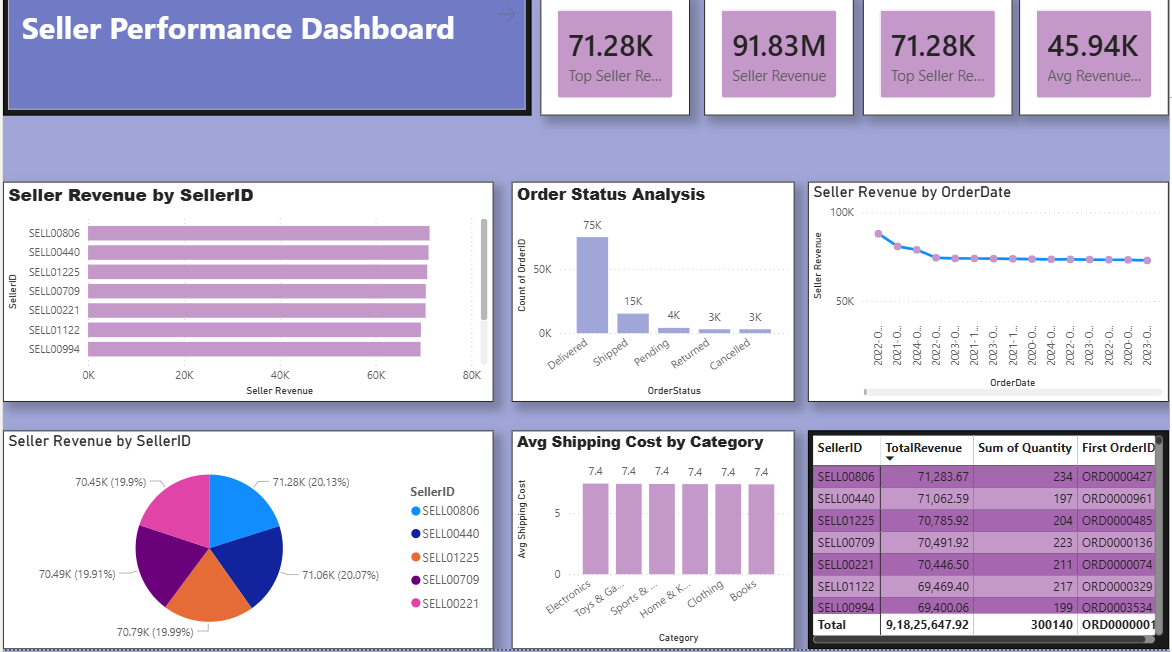

Layout of this report page (visuals, bound fields, positions):
{"tool":"powerbi","page":{"name":"Seller Performance Dashboard","canvas":[1280,720],"ordinal":3},"visuals":[{"type":"cardVisual","fields":{"Data":["amazonanalytics amazonsales.Top Seller Revenue"]},"box":[590,0,164.3,134.3],"z":0},{"type":"textSlicer","box":[0,0,580,134.3],"z":1000},{"type":"cardVisual","fields":{"Data":["amazonanalytics amazonsales.Seller Revenue"]},"box":[770,0,164.3,134.3],"z":2000},{"type":"cardVisual","fields":{"Data":["amazonanalytics amazonsales.Top Seller Revenue"]},"box":[944.3,0,164.3,134.3],"z":3000},{"type":"cardVisual","fields":{"Data":["amazonanalytics amazonsales.Avg Revenue Per Seller"]},"box":[1115.7,0,164.3,134.3],"z":4000},{"type":"clusteredBarChart","fields":{"Category":["amazonanalytics amazonsales.SellerID"],"Y":["amazonanalytics amazonsales.Seller Revenue"]},"box":[0,207.1,538.6,241.4],"z":5000},{"type":"pieChart","fields":{"Category":["amazonanalytics amazonsales.SellerID"],"Y":["amazonanalytics amazonsales.Seller Revenue"]},"box":[0,480,538.6,240],"z":6000},{"type":"columnChart","title":"Order Status Analysis","fields":{"Category":["amazonanalytics amazonsales.OrderStatus"],"Y":["CountNonNull(amazonanalytics amazonsales.OrderID)"]},"box":[558.6,207.1,310,241.4],"z":7000},{"type":"clusteredColumnChart","fields":{"Category":["amazonanalytics amazonsales.Category"],"Y":["amazonanalytics amazonsales.Avg Shipping Cost"]},"box":[558.6,480,310,240],"z":8000},{"type":"lineChart","fields":{"Category":["amazonanalytics amazonsales.OrderDate"],"Y":["amazonanalytics amazonsales.Seller Revenue"]},"box":[884.3,207.1,395.7,241.4],"z":9000},{"type":"pivotTable","fields":{"Rows":["amazonanalytics amazonsales.SellerID"],"Values":["amazonanalytics amazonsales.TotalRevenue","Sum(amazonanalytics amazonsales.Quantity)","Min(amazonanalytics amazonsales.OrderID)"]},"box":[884.3,480,395.7,240],"z":10000}]}

Visuals, with their boxes in screenshot pixels (x1, y1, x2, y2), scaled from the page's 1280x720 canvas onto the 1172x652 screenshot:
cardVisual - amazonanalytics amazonsales.Top Seller Revenue: (left=540, top=0, right=691, bottom=122)
textSlicer: (left=0, top=0, right=531, bottom=122)
cardVisual - amazonanalytics amazonsales.Seller Revenue: (left=705, top=0, right=855, bottom=122)
cardVisual - amazonanalytics amazonsales.Top Seller Revenue: (left=865, top=0, right=1015, bottom=122)
cardVisual - amazonanalytics amazonsales.Avg Revenue Per Seller: (left=1022, top=0, right=1171, bottom=122)
clusteredBarChart - amazonanalytics amazonsales.SellerID x amazonanalytics amazonsales.Seller Revenue: (left=0, top=188, right=493, bottom=406)
pieChart - amazonanalytics amazonsales.SellerID x amazonanalytics amazonsales.Seller Revenue: (left=0, top=435, right=493, bottom=651)
"Order Status Analysis" columnChart: (left=511, top=188, right=795, bottom=406)
clusteredColumnChart - amazonanalytics amazonsales.Category x amazonanalytics amazonsales.Avg Shipping Cost: (left=511, top=435, right=795, bottom=651)
lineChart - amazonanalytics amazonsales.OrderDate x amazonanalytics amazonsales.Seller Revenue: (left=810, top=188, right=1171, bottom=406)
pivotTable - amazonanalytics amazonsales.SellerID x amazonanalytics amazonsales.TotalRevenue: (left=810, top=435, right=1171, bottom=651)
